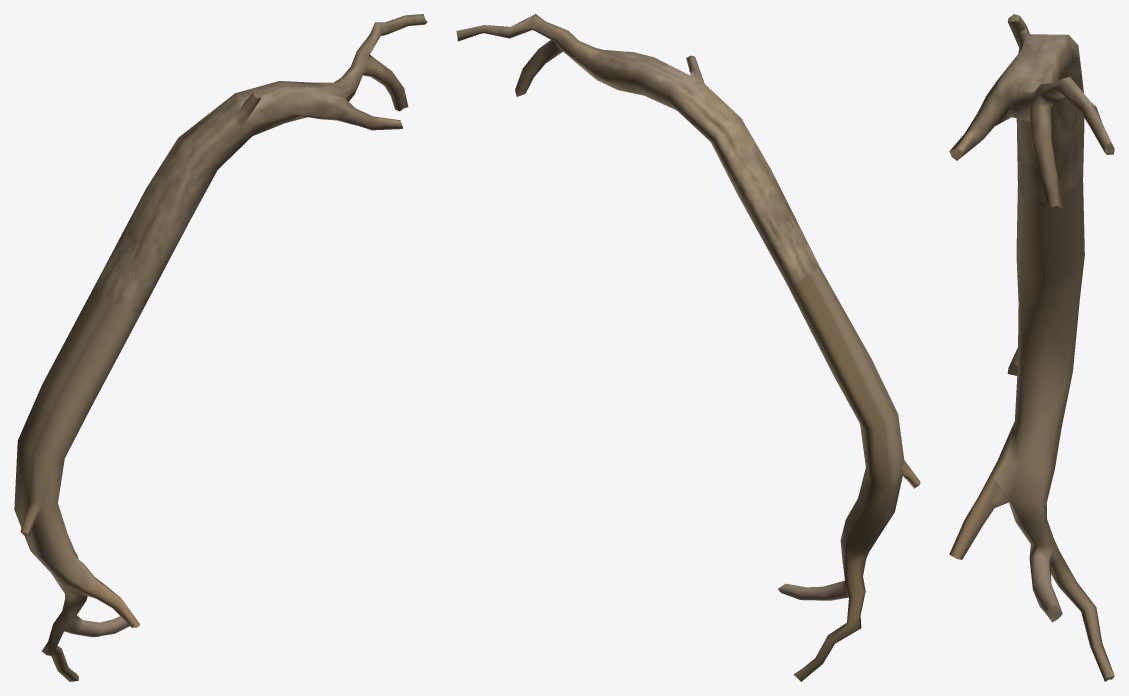
File: objects_un_dlc2_tree_dead01_03.gltf
3 views of the same model, side by side, from view 1: azimuth 30°, elevation 25°; view 2: azimuth 150°, elevation 25°; view 3: azimuth 270°, elevation 25° (orthographic). The views are drawn at different scales.
Visible parts, largest first — view 1: um_objects_un_dlc2_tree_dead01_03_model_lod0Shape:objects_un; view 2: um_objects_un_dlc2_tree_dead01_03_model_lod0Shape:objects_un; view 3: um_objects_un_dlc2_tree_dead01_03_model_lod0Shape:objects_un.
Boxes of the visible parts, bbox=[...] form: um_objects_un_dlc2_tree_dead01_03_model_lod0Shape:objects_un: bbox=[14, 14, 427, 681]; um_objects_un_dlc2_tree_dead01_03_model_lod0Shape:objects_un: bbox=[456, 14, 920, 681]; um_objects_un_dlc2_tree_dead01_03_model_lod0Shape:objects_un: bbox=[949, 14, 1114, 681].
Size of what is drawn, in the model's own units: 4.92 by 6.4 by 1.22.
Materials: 2 (1 with a texture image).
